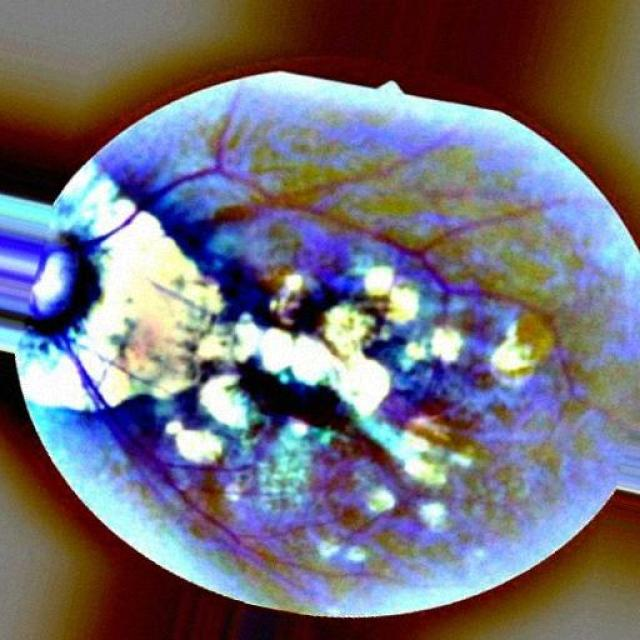Macula: (242, 354, 360, 436)
Nerves: (89, 91, 425, 261), (64, 349, 203, 534)
Optic Disk: (12, 165, 209, 403)
